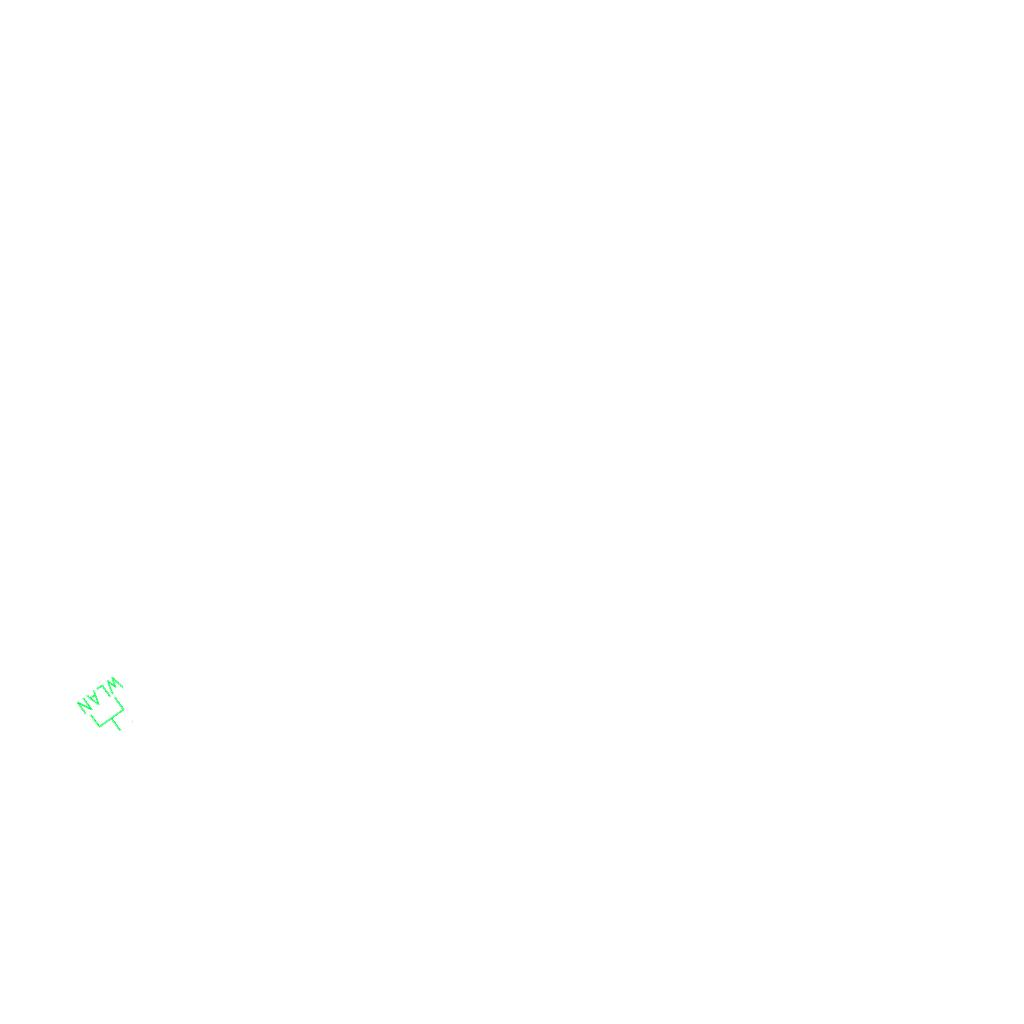WLAN: (73, 671, 147, 745)
